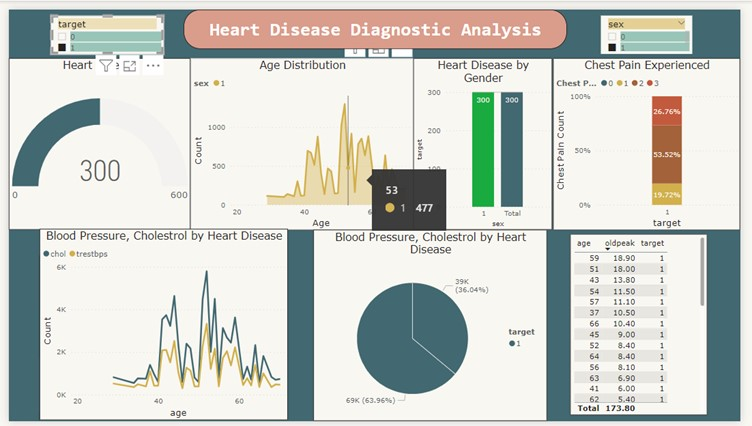

The page's visual inventory and layout, read from the dashboard file:
{"tool":"powerbi","page":{"name":"Dashboard","canvas":[1280,720],"ordinal":0},"visuals":[{"type":"waterfallChart","title":"Heart Disease by Gender","fields":{"Category":["Heart Disease data 2.sex"],"Y":["Sum(Heart Disease data 2.target)"]},"box":[708.1,84.8,243.6,299.7],"z":0},{"type":"gauge","title":"Heart Disease","fields":{"Y":["Sum(Heart Disease data 2.target)"]},"box":[0,84.8,317.6,299.7],"z":1000},{"type":"areaChart","title":"Age Distribution","fields":{"Category":["Heart Disease data 2.age"],"Series":["Heart Disease data 2.sex"],"Y":["Sum(Heart Disease data 2.age)"]},"box":[317.6,84.8,390.4,300.9],"z":2000},{"type":"hundredPercentStackedColumnChart","title":"Chest Pain Experienced","fields":{"Category":["Heart Disease data 2.target"],"Y":["Sum(Heart Disease data 2.cp)"],"Series":["Heart Disease data 2.cp"]},"box":[951.6,84.8,327.2,300.9],"z":3000},{"type":"lineChart","title":"Blood Pressure, Cholestrol by Heart Disease","fields":{"Y":["Sum(Heart Disease data 2.chol)","Sum(Heart Disease data 2.trestbps)"],"Category":["Heart Disease data 2.age"]},"box":[54.3,384.3,434.3,334.3],"z":4000},{"type":"pieChart","title":"Blood Pressure, Cholestrol by Heart Disease","fields":{"Category":["Heart Disease data 2.target"],"Y":["Sum(Heart Disease data 2.trestbps)","Sum(Heart Disease data 2.chol)"]},"box":[532.9,385.7,408.6,334.3],"z":5000},{"type":"tableEx","title":"ST Depression by Age and Heart Disease","fields":{"Values":["Heart Disease data 2.age","Sum(Heart Disease data 2.oldpeak)","Heart Disease data 2.target"]},"box":[981.4,392.9,240,317.1],"z":6000},{"type":"slicer","fields":{"Values":["Heart Disease data 2.sex"]},"box":[1035.7,10,160,67.1],"z":7000},{"type":"slicer","fields":{"Values":["Heart Disease data 2.target"]},"box":[72.9,10,198.6,68.6],"z":8000},{"type":"textbox","box":[305.7,0,670,68.6],"z":9000}]}

Visuals, with their boxes in screenshot pixels (x1, y1, x2, y2), scaled from the page's 1280x720 canvas onto the 752x426 screenshot:
"Heart Disease by Gender" waterfallChart: x1=416 y1=50 x2=559 y2=227
"Heart Disease" gauge: x1=0 y1=50 x2=187 y2=227
"Age Distribution" areaChart: x1=187 y1=50 x2=416 y2=228
"Chest Pain Experienced" hundredPercentStackedColumnChart: x1=559 y1=50 x2=751 y2=228
"Blood Pressure, Cholestrol by Heart Disease" lineChart: x1=32 y1=227 x2=287 y2=425
"Blood Pressure, Cholestrol by Heart Disease" pieChart: x1=313 y1=228 x2=553 y2=425
"ST Depression by Age and Heart Disease" tableEx: x1=577 y1=232 x2=718 y2=420
slicer - Heart Disease data 2.sex: x1=608 y1=6 x2=702 y2=46
slicer - Heart Disease data 2.target: x1=43 y1=6 x2=160 y2=47
textbox: x1=180 y1=0 x2=573 y2=41
